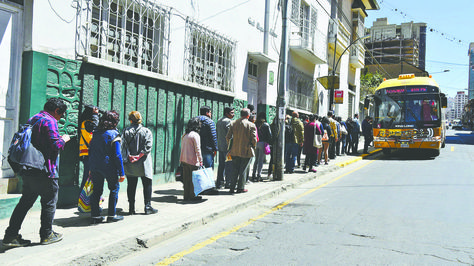person: (26, 90, 67, 171)
